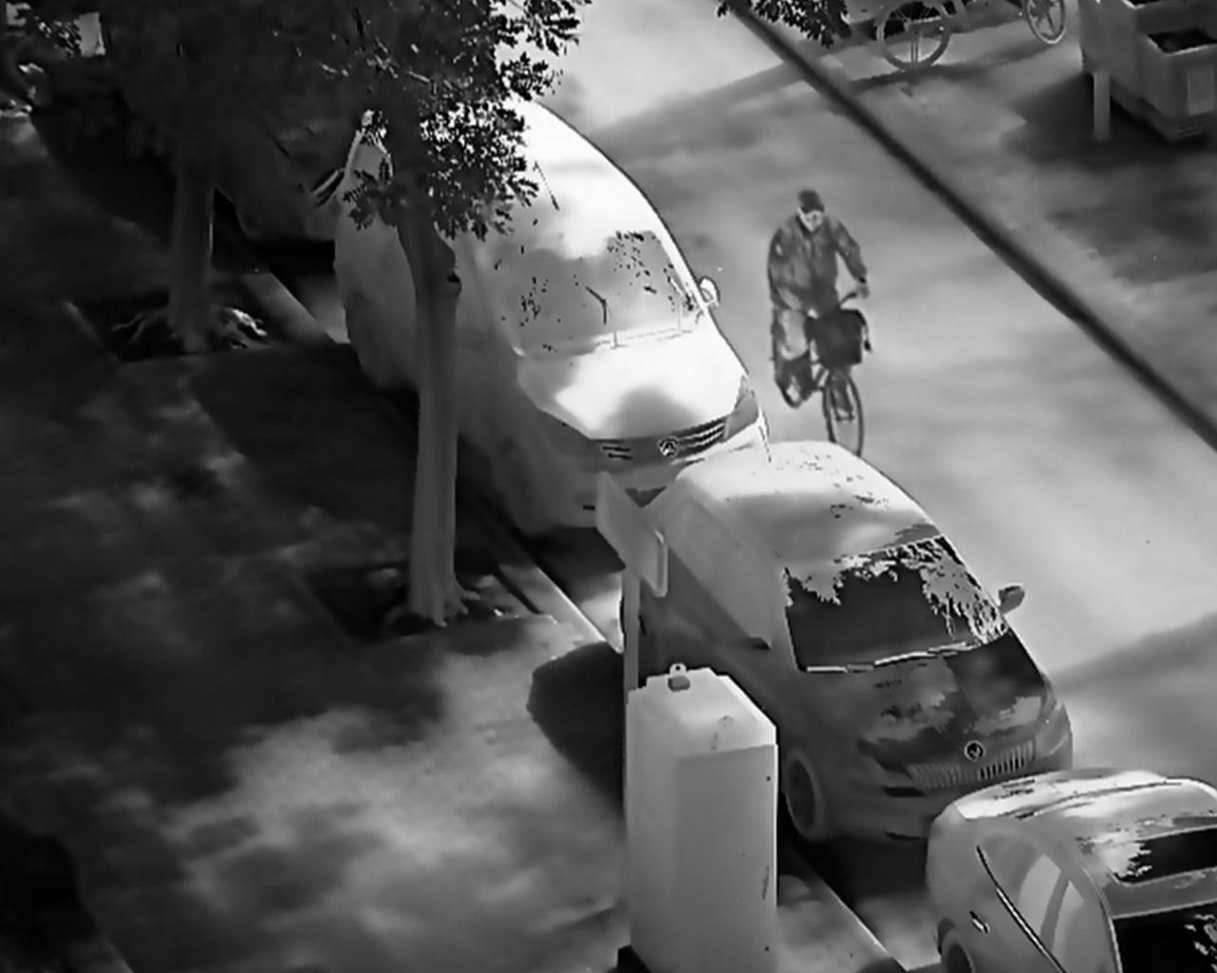person: (764, 185, 872, 405)
